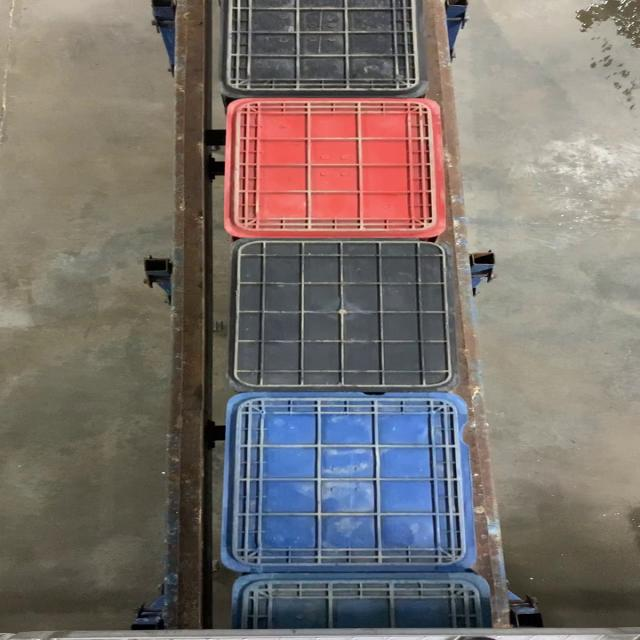Box: (225, 392, 479, 574), (228, 240, 461, 392), (224, 97, 443, 241)
